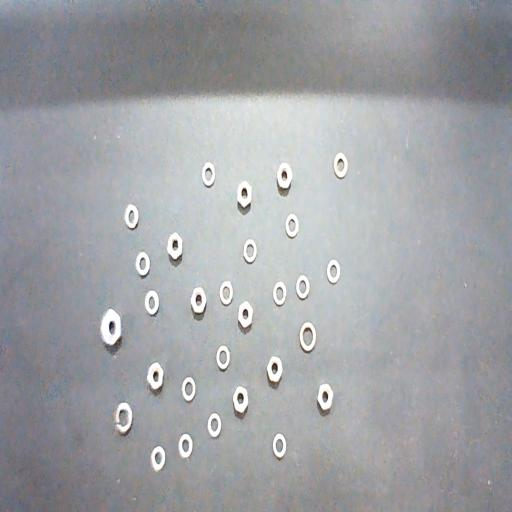nut: (100, 308, 121, 346), (147, 362, 163, 390), (236, 180, 252, 208), (232, 386, 248, 413), (266, 356, 282, 383), (317, 384, 333, 410), (190, 287, 206, 313), (276, 163, 292, 189), (238, 301, 253, 328), (168, 232, 182, 260)
washer: (114, 402, 132, 433), (300, 322, 316, 352), (150, 446, 166, 472), (144, 290, 159, 315), (334, 152, 348, 178), (136, 251, 150, 276), (182, 377, 196, 402), (207, 413, 221, 438), (216, 345, 230, 370), (273, 433, 287, 458), (285, 213, 299, 238), (202, 162, 216, 187), (124, 204, 138, 228), (179, 434, 193, 458), (273, 282, 287, 306), (243, 239, 257, 263), (327, 259, 340, 284), (220, 280, 233, 305), (296, 275, 309, 299)
